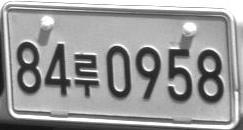0: (106, 44, 131, 98)
4: (44, 42, 70, 97)
5: (166, 48, 193, 102)
8: (196, 48, 224, 104), (16, 41, 42, 93)
9: (134, 46, 161, 100)
루: (73, 53, 99, 97)
